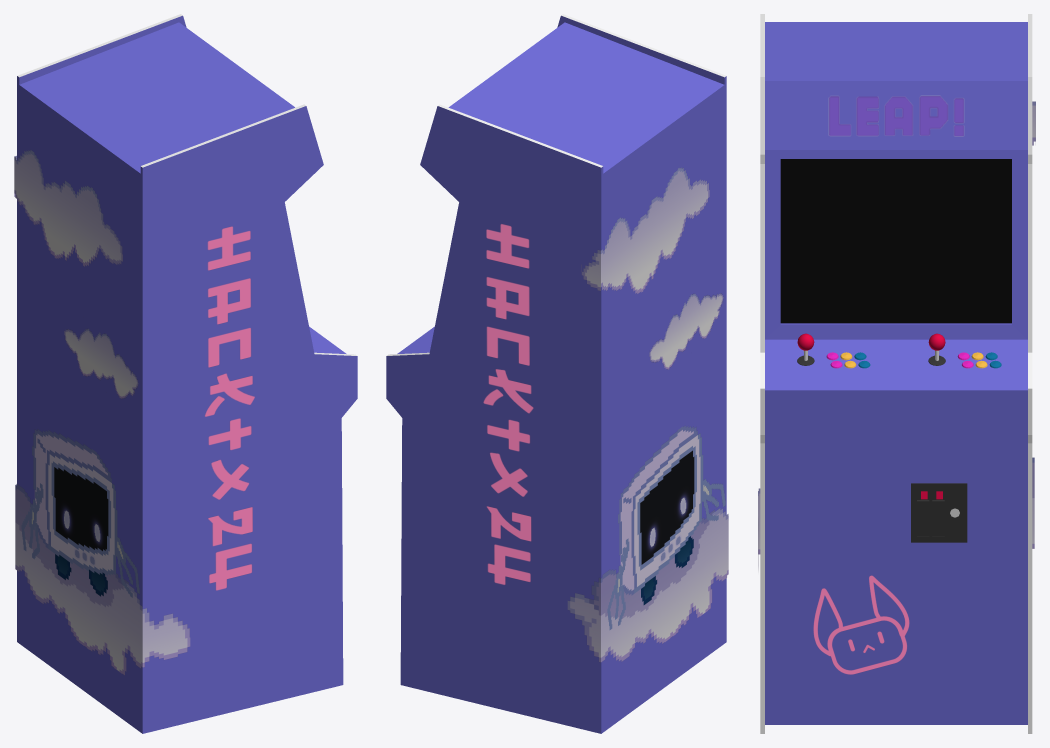
The model's file is cabinet.glb.
3 renders of one model, left to right at view 1: azimuth 30°, elevation 25°; view 2: azimuth 150°, elevation 25°; view 3: azimuth 270°, elevation 25°, orthographic. The views are drawn at different scales.
Parts seen in each view (by area): view 1: Cube.001; view 2: Cube.001; view 3: Cube.001.
Part boxes in pixels (box(x1,y1,x2,y2)): Cube.001: box(14, 14, 357, 733); Cube.001: box(386, 14, 728, 733); Cube.001: box(758, 14, 1035, 733).
Size of the model in its own units: 2.06 by 5.35 by 2.12.
Materials: 16 (6 with a texture image).
